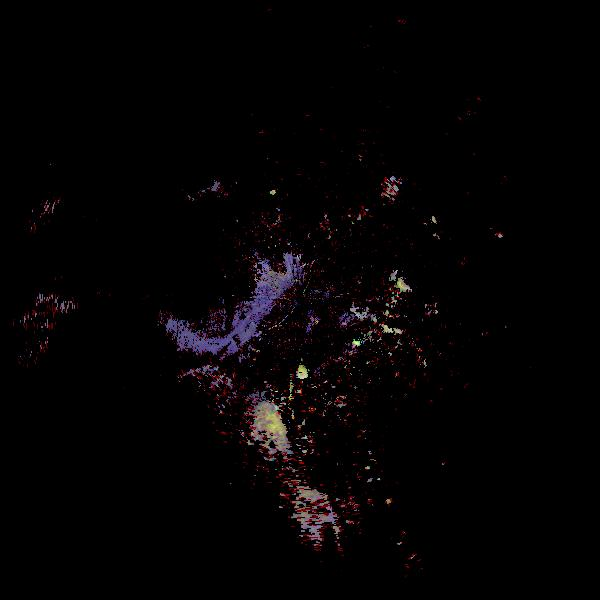roost: (390, 260, 429, 299), (423, 210, 444, 231), (291, 363, 312, 384), (348, 335, 363, 350), (441, 462, 450, 471), (273, 190, 276, 193)
